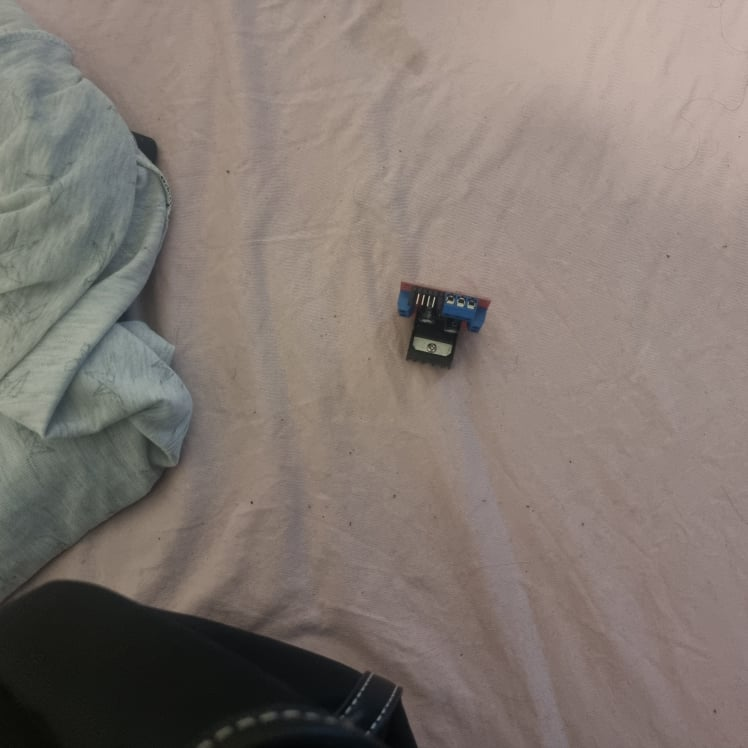MOTOR: (390, 277, 492, 370)
